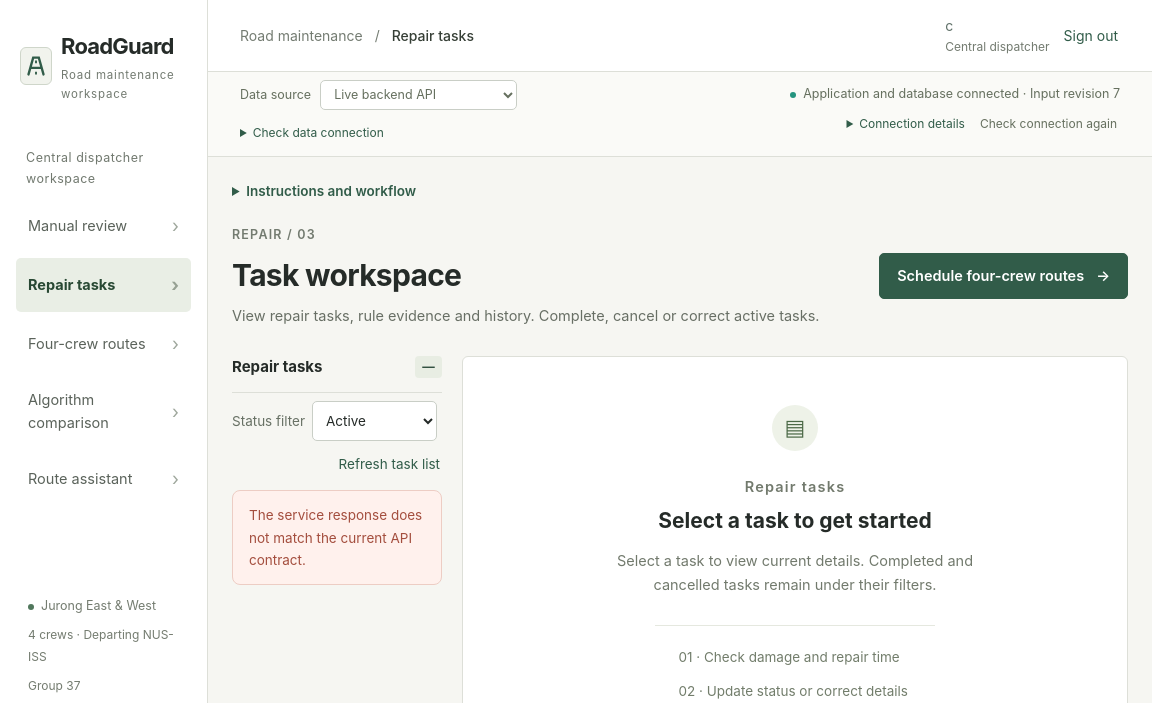
Test case: workspace navigation › explains automatic acceptance and manual review, and navigates without writes
The image size is (1152, 703).
Click the heading "Instructions and workflow" at (331, 191), box [246,183,416,199]
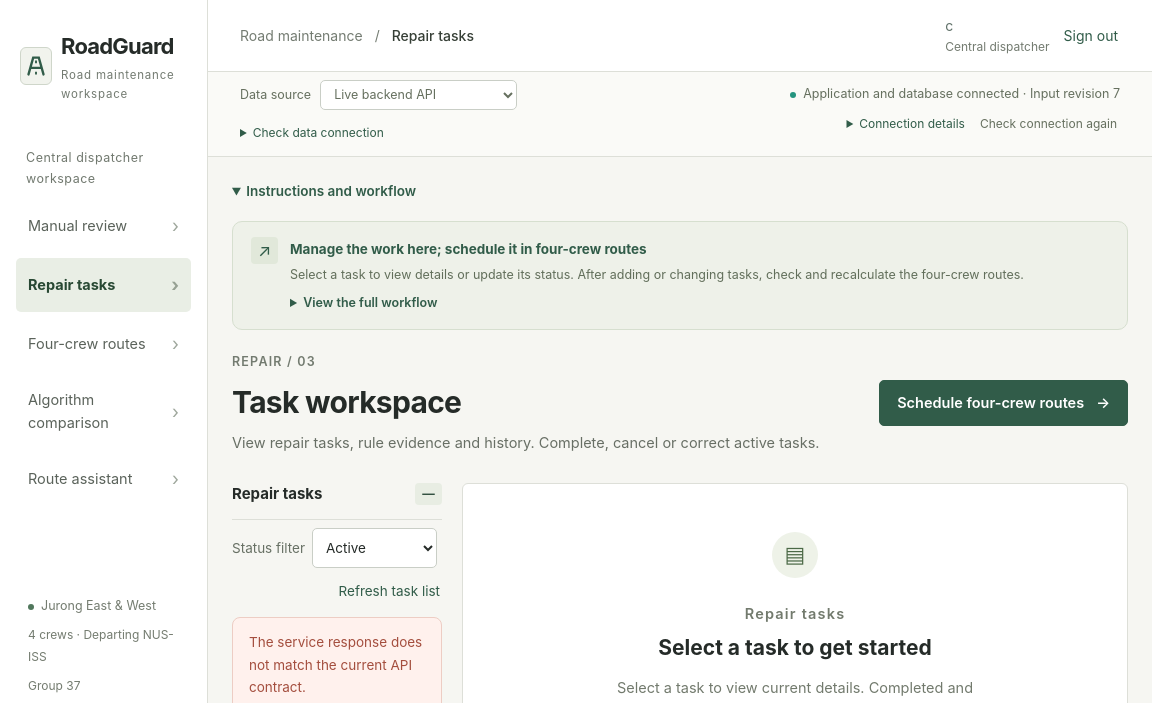
Check: the element named "Current step guide" shows "Manage the work here", box [290,241,647,257]
Click the heading "View the full workflow" at (370, 303), box [303,295,438,310]
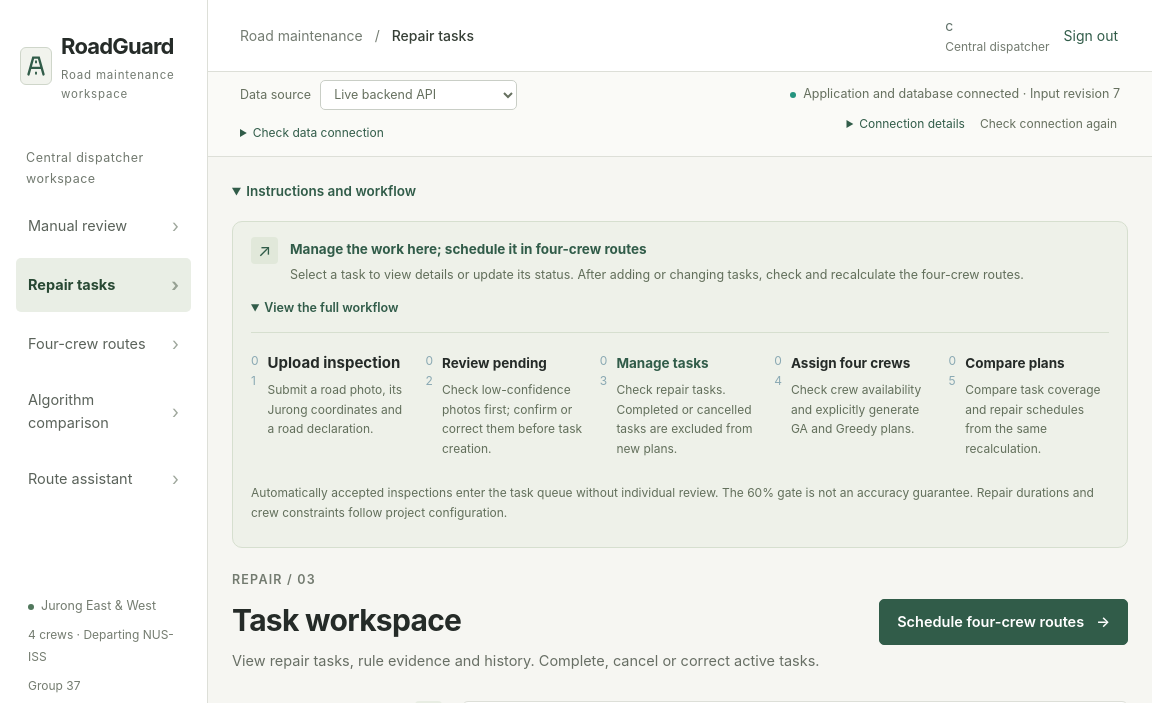
Check: the text "Automatically accepted inspections enter the task queue" is shown, box [251,485,1094,520]
Click the link "Review pending" at (494, 363), box [442,355,547,371]
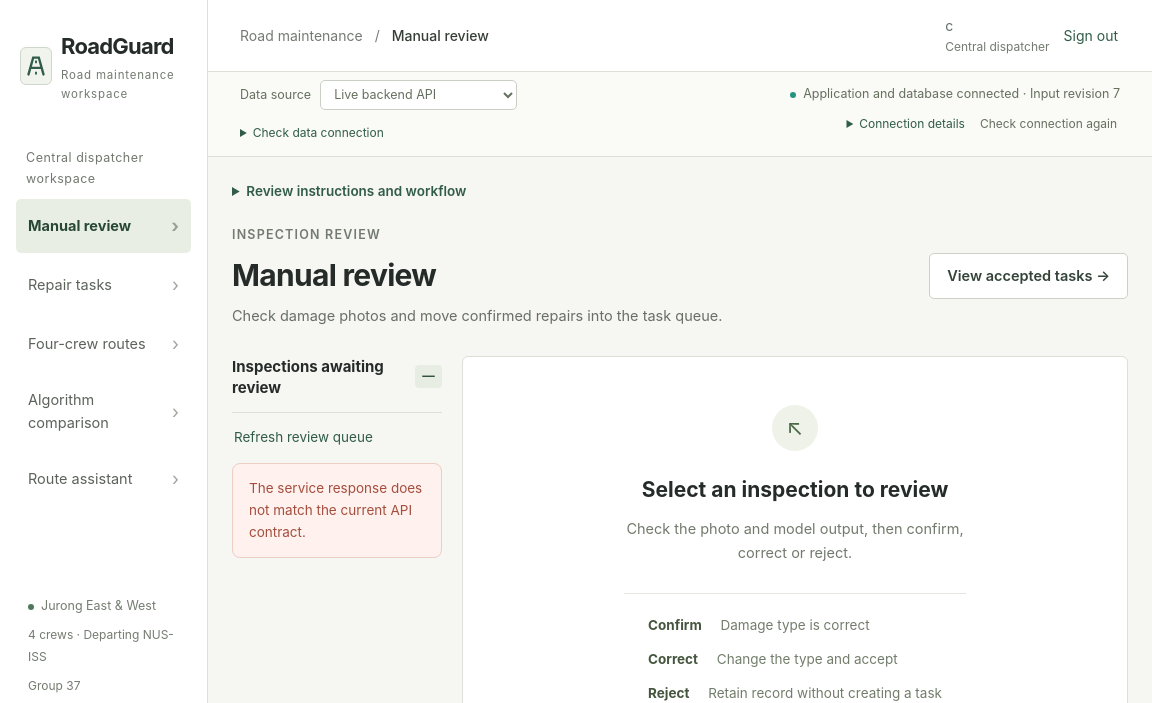
Check: the heading "Manual review" is shown, box [232,257,436,293]
